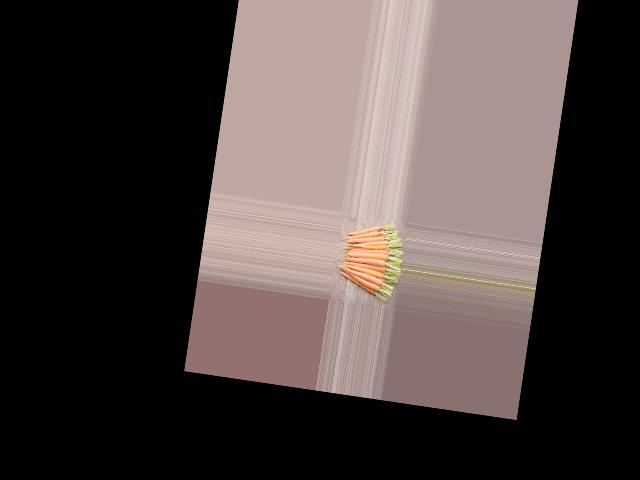carrot: (348, 221, 382, 232)
